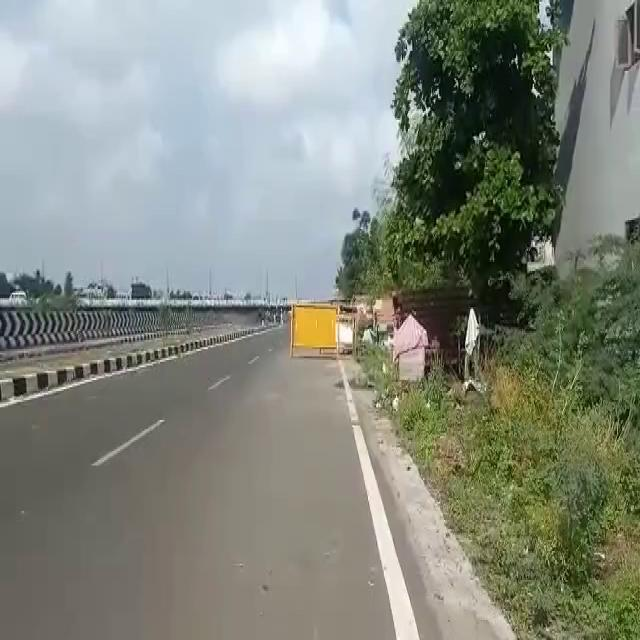fallen_object: (275, 285, 361, 365)
